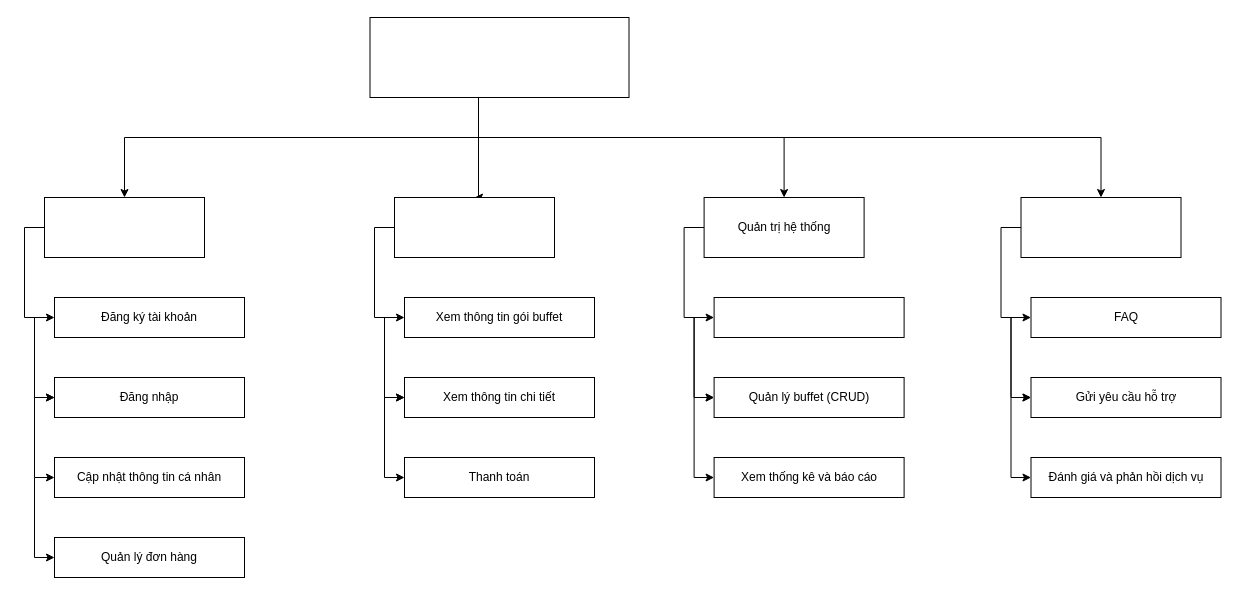
Image size: 1239x595. Some labels were removed from this diagram. The shapes that lost their labels are listed below. From the top down, each one's centre as x and y in pixels, then its label:
At pixel 499 57: "Hệ thống Website bán dịch vụ buffet".
At pixel 124 227: "khách hàng".
At pixel 474 227: "Quản lý giỏ hàng".
At pixel 1100 227: "Hỗ trợ khách hàng".
At pixel 808 317: "Quán lý người dùng".
